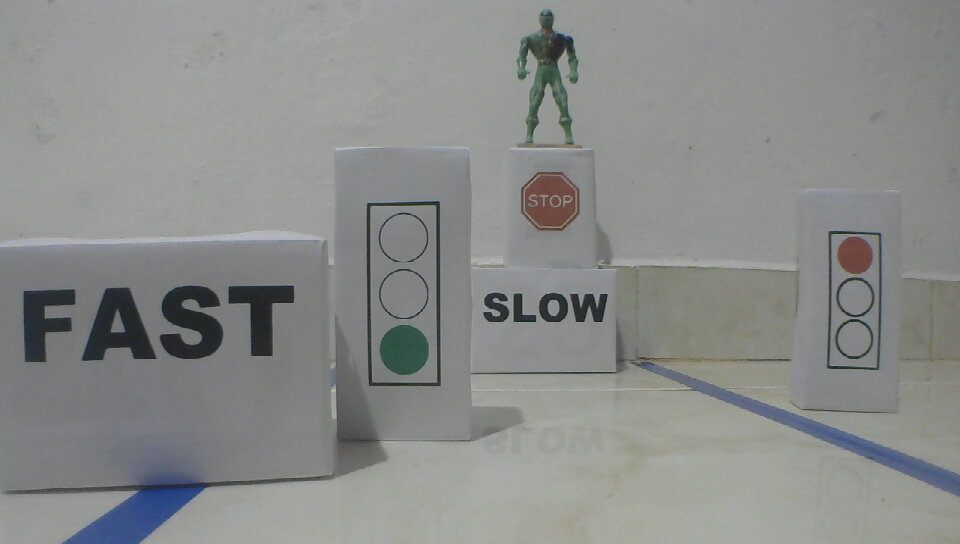Fast: (20, 283, 298, 366)
Green Traffic Light: (363, 199, 445, 390)
Person: (514, 7, 583, 149)
Red Traffic Light: (825, 227, 885, 373)
Slow: (481, 290, 611, 327)
Stop Sign: (519, 169, 582, 232)
